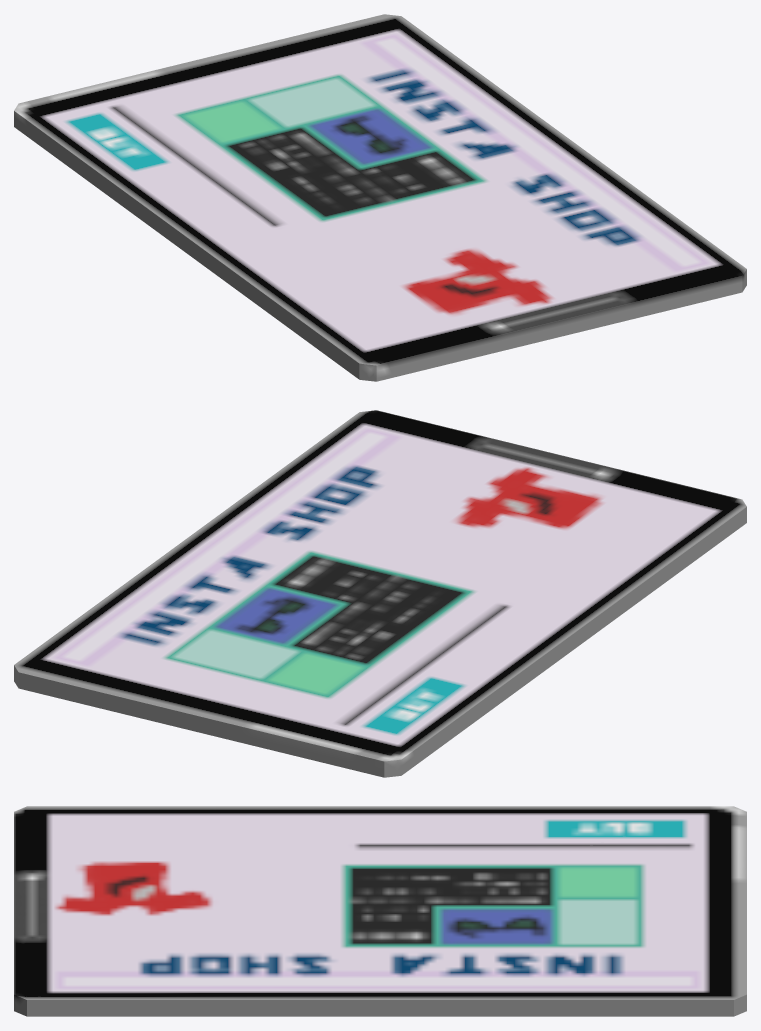
File: Tablet.FBX
The picture shows the model from 3 angles, top to bottom: view 1: azimuth 30°, elevation 25°; view 2: azimuth 150°, elevation 25°; view 3: azimuth 270°, elevation 25°; orthographic projection. The views are drawn at different scales.
Visible parts, largest first — view 1: Tablet; view 2: Tablet; view 3: Tablet.
Boxes of the visible parts, x1,y1,x2,y2 form: Tablet: [14, 14, 746, 381]; Tablet: [14, 410, 746, 777]; Tablet: [14, 806, 746, 1016].
Size of the model in its own units: 20.41 by 0.8166 by 32.66.
